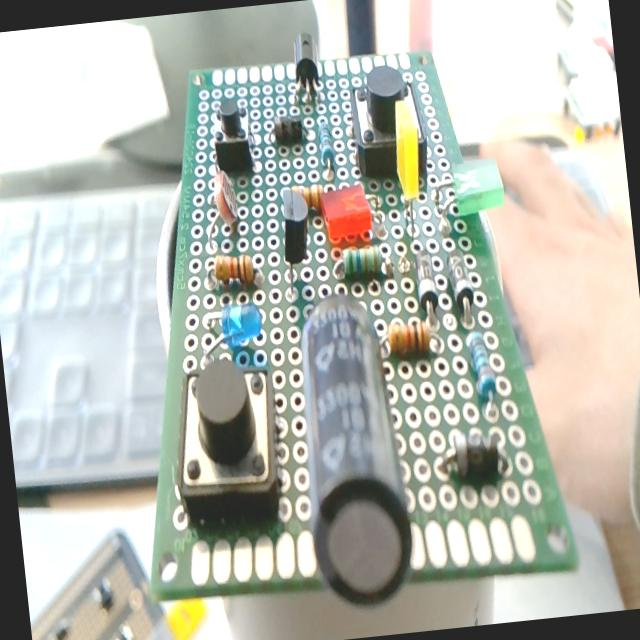Electrolytic capacitor: (286, 282, 424, 632)
diode: (406, 237, 449, 328), (440, 242, 479, 335), (258, 112, 318, 162)
led: (379, 91, 434, 244), (430, 150, 512, 250), (190, 290, 277, 374), (311, 182, 392, 254)
resistor: (198, 242, 272, 298), (376, 313, 447, 367), (327, 242, 398, 292), (312, 108, 338, 191)
switch: (158, 339, 295, 572), (200, 87, 260, 178)
transistor: (266, 182, 322, 308), (280, 24, 328, 109)
